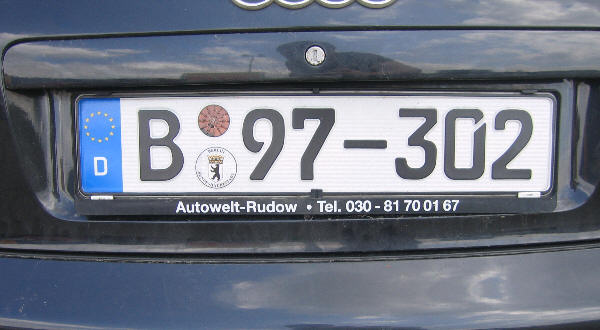license_plate: (74, 93, 555, 200)
